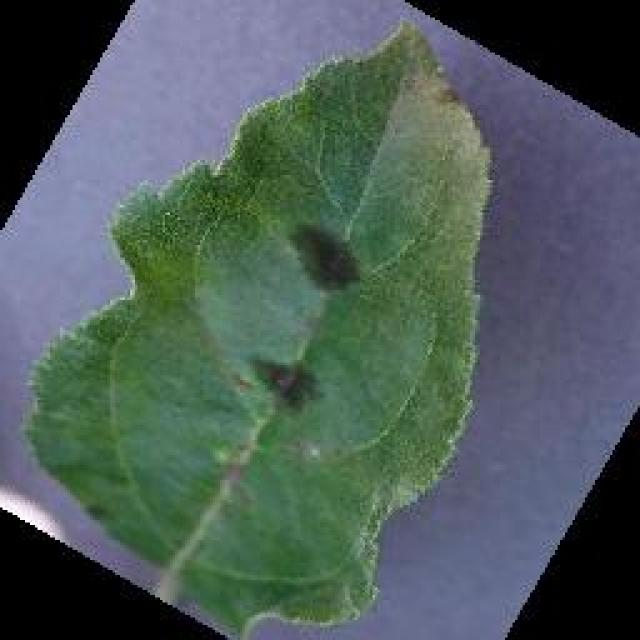apple scab disease: (20, 15, 495, 637)
